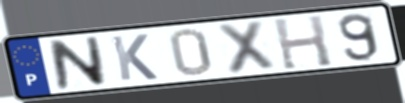0: (166, 27, 216, 79)
9: (336, 12, 380, 62)
H: (270, 13, 335, 71)
K: (108, 32, 160, 83)
N: (46, 35, 109, 91)
X: (214, 18, 279, 76)
